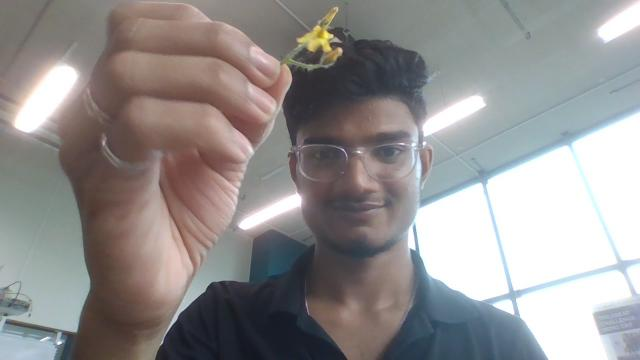Anthesis: (297, 23, 336, 55), (319, 6, 338, 28), (322, 46, 343, 65)
